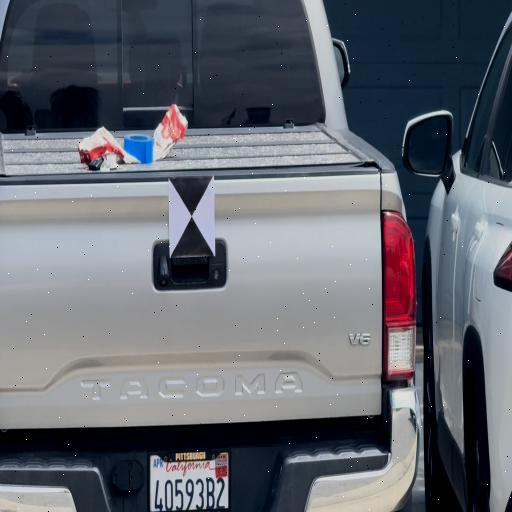target: (169, 178, 215, 255)
